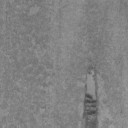oxide scale of plate system: (82, 64, 100, 128), (84, 84, 88, 90)
